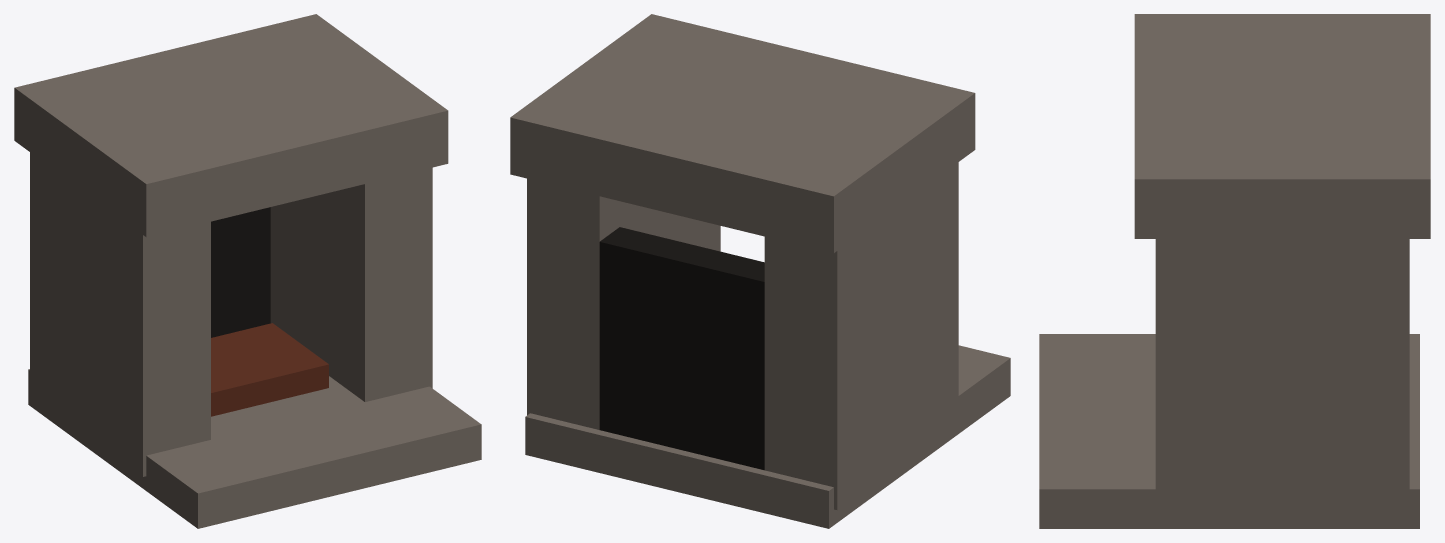
File: fireplace.glb
3 renders of one model, left to right at view 1: azimuth 30°, elevation 25°; view 2: azimuth 150°, elevation 25°; view 3: azimuth 270°, elevation 25°, orthographic. The views are drawn at different scales.
Visible parts, largest first — view 1: Mantel, Left pillar, Hearth, Right pillar, Embers, Firebox; view 2: Mantel, Left pillar, Firebox, Right pillar, Hearth; view 3: Right pillar, Mantel, Hearth.
Part boxes in pixels (x1,y1,x2,y2): Mantel: [14, 14, 448, 237]; Left pillar: [30, 152, 210, 476]; Hearth: [28, 369, 481, 528]; Right pillar: [270, 167, 432, 401]; Embers: [211, 323, 328, 416]; Firebox: [211, 207, 270, 337]; Mantel: [510, 14, 975, 253]; Left pillar: [764, 162, 958, 509]; Firebox: [599, 227, 764, 470]; Right pillar: [527, 178, 720, 429]; Hearth: [525, 345, 1010, 528]; Right pillar: [1155, 239, 1409, 513]; Mantel: [1134, 14, 1430, 238]; Hearth: [1039, 334, 1419, 528].
Bounding box in the file's own units: 1 × 1 × 1.
